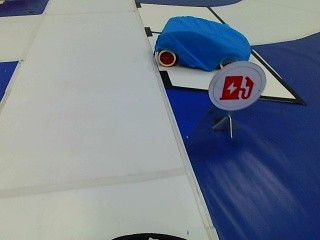battery: (212, 63, 261, 109)
car: (151, 12, 255, 76)
